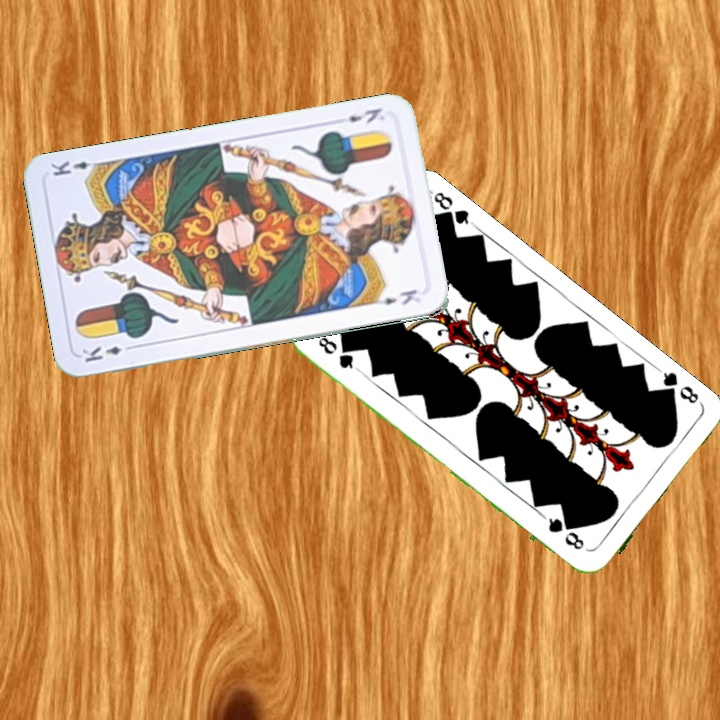EK: (78, 341, 138, 365), (344, 104, 384, 126)
G8: (655, 366, 705, 408), (313, 332, 362, 374)
